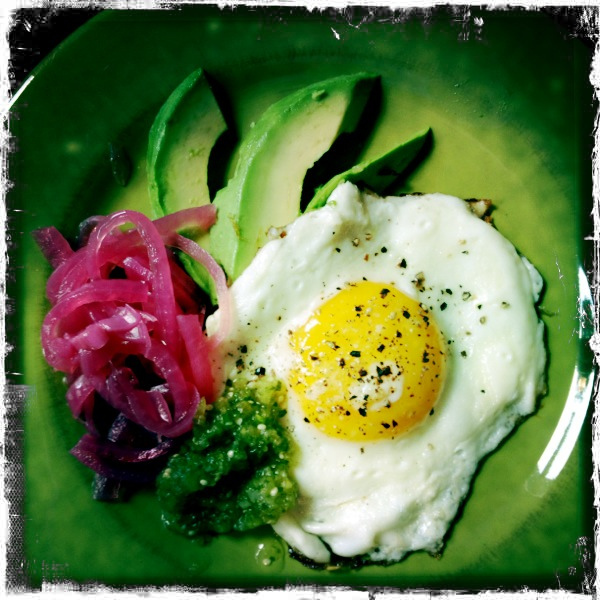fried egg: (215, 207, 522, 542)
